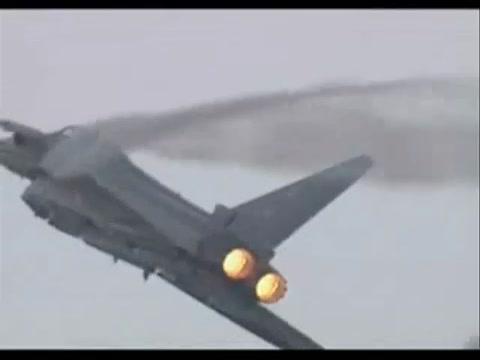aeroplane: (2, 119, 375, 350)
